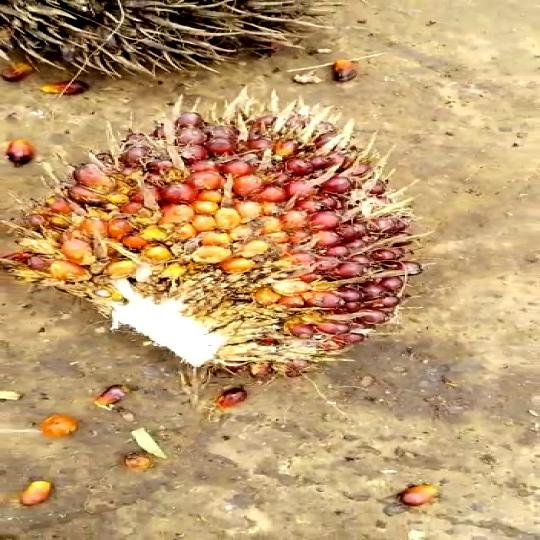masak: (4, 100, 434, 378)
